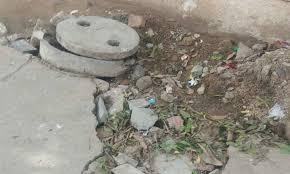closed manhole-not overflowing-: (22, 14, 158, 91)
